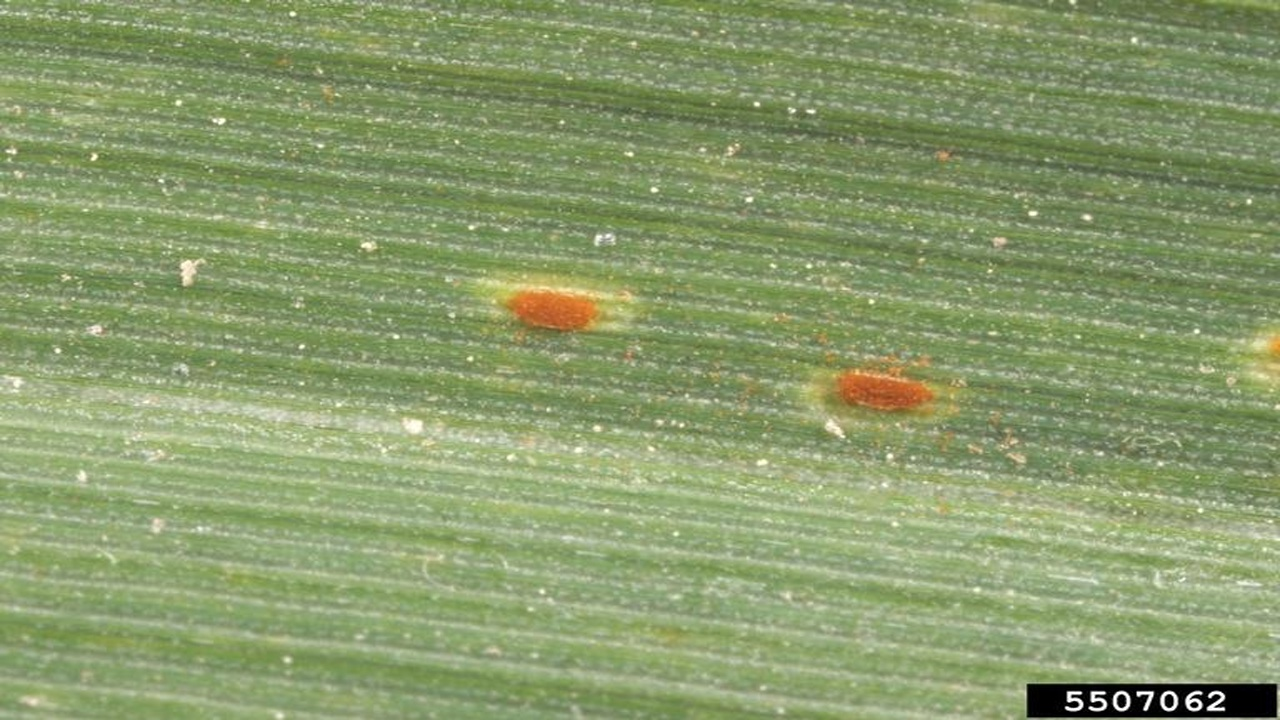leaf_rust: (283, 35, 1065, 605)
